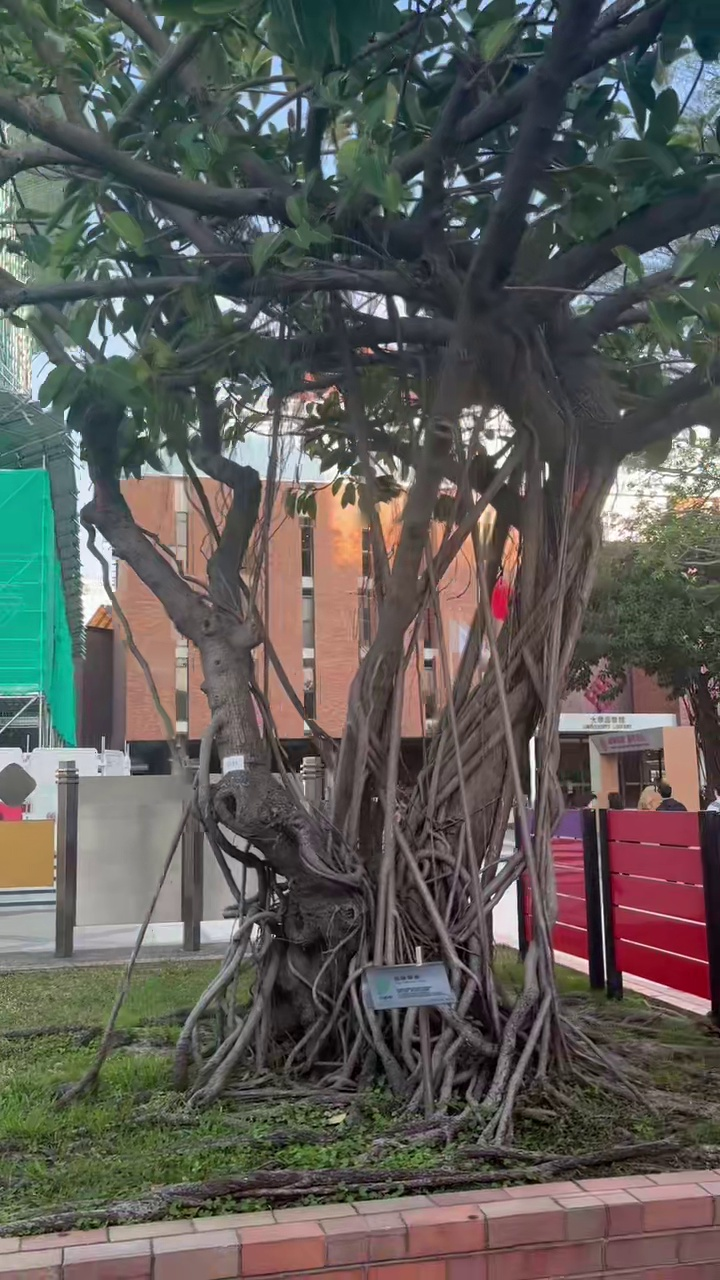Ficus elastica: (405, 454, 610, 888)
